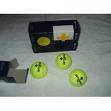tennis ball: (66, 68, 90, 89), (28, 60, 50, 80), (53, 51, 73, 69)
